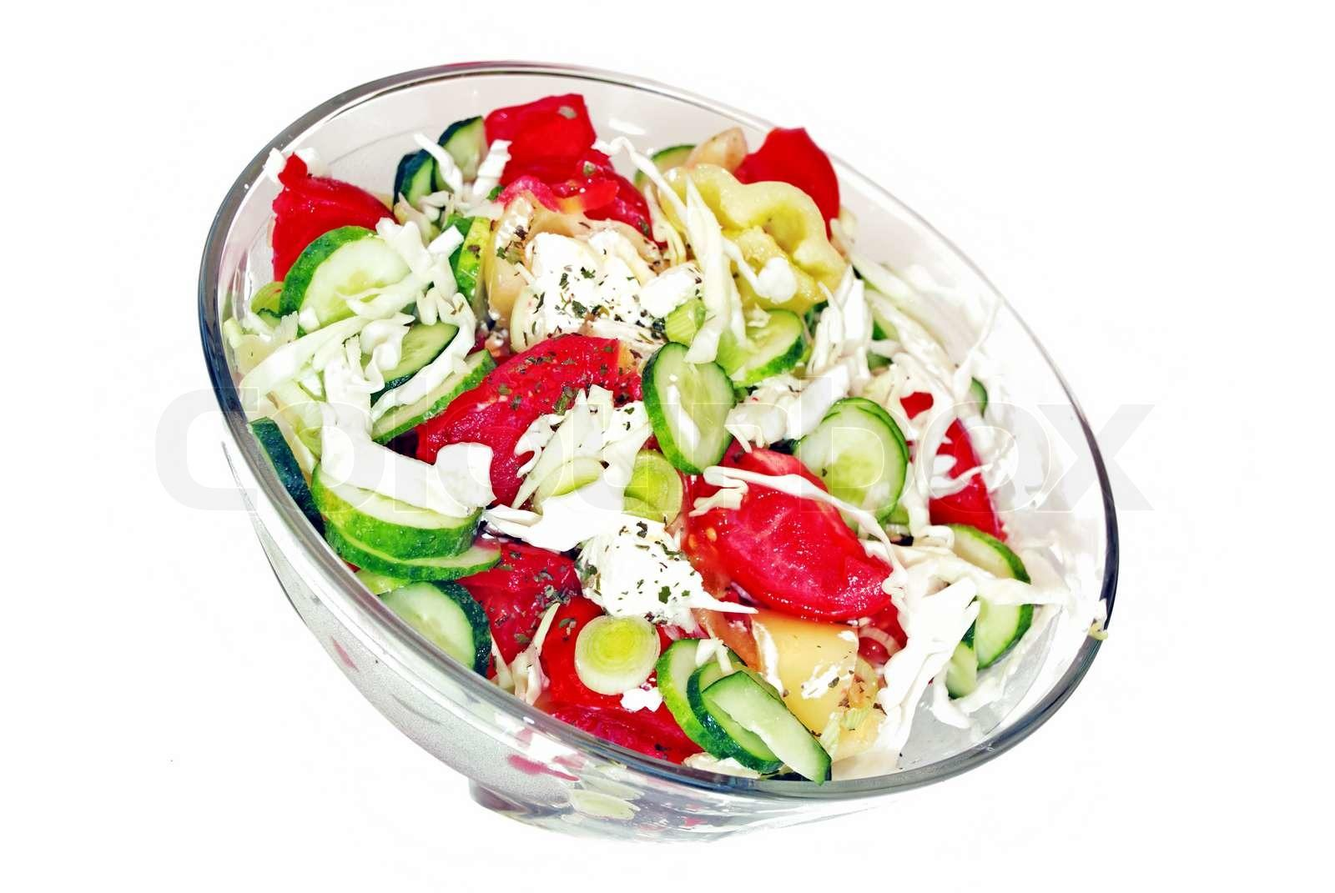cucumber: (631, 334, 748, 489)
